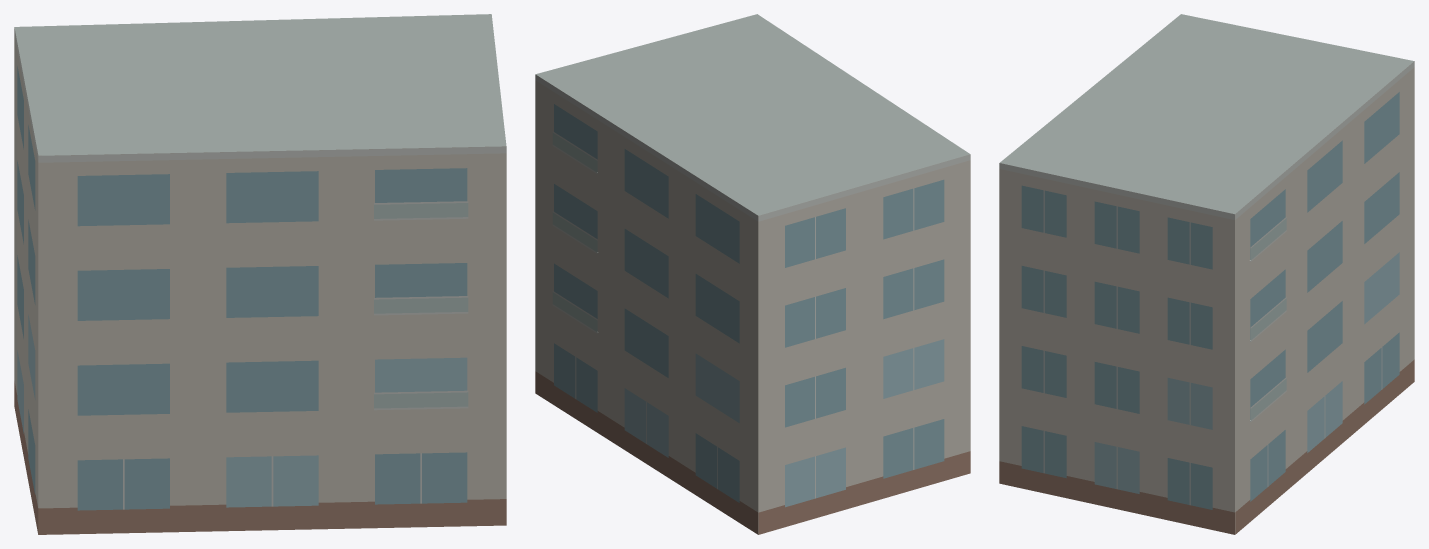
The model's file is survey-upis-32842165.glb.
3 views of the same model, side by side, from view 1: azimuth 30°, elevation 25°; view 2: azimuth 150°, elevation 25°; view 3: azimuth 270°, elevation 25° (orthographic). The views are drawn at different scales.
Visible parts, largest first — view 1: survey-upis-32842165.tmp; view 2: survey-upis-32842165.tmp; view 3: survey-upis-32842165.tmp.
Boxes of the visible parts, x1,y1,x2,y2 form: survey-upis-32842165.tmp: (14,14,506,534); survey-upis-32842165.tmp: (535,14,970,534); survey-upis-32842165.tmp: (999,14,1414,534).
Bounding box in the file's own units: 17.69 × 13.2 × 15.5.
